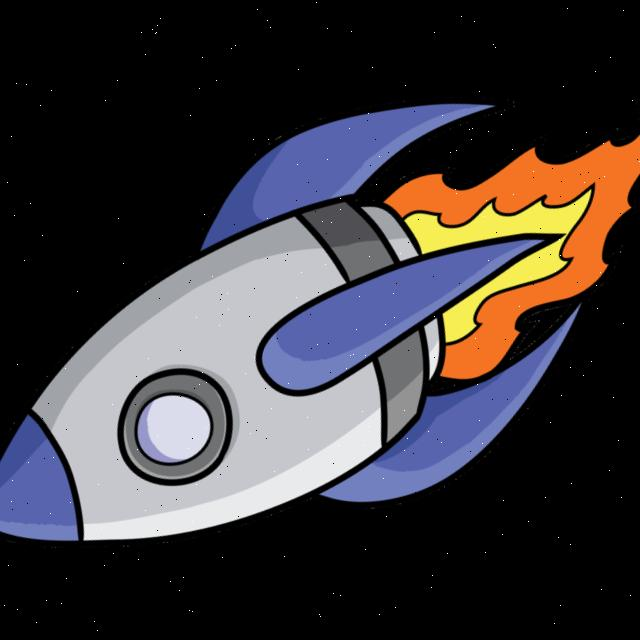rocket: (0, 82, 596, 569)
